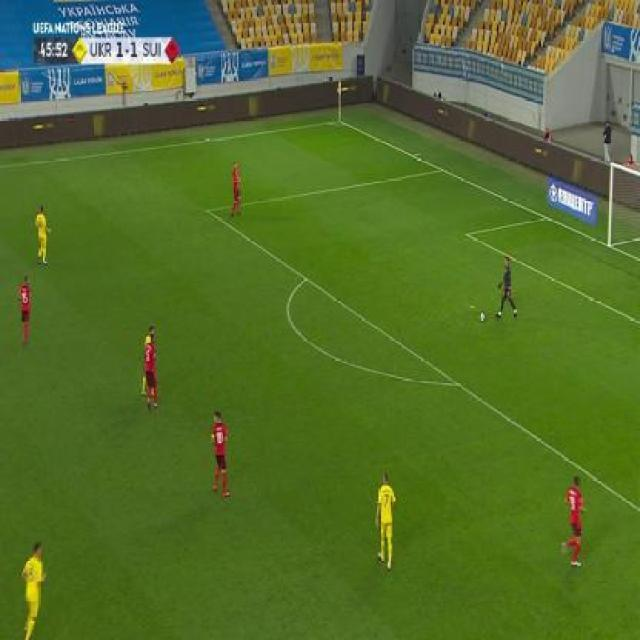ball: (479, 310, 485, 323)
player: (19, 540, 50, 639), (560, 474, 588, 571), (375, 470, 397, 572), (208, 410, 230, 498), (140, 324, 160, 415), (495, 254, 518, 322), (16, 273, 33, 349), (34, 205, 51, 267), (229, 158, 242, 220)
